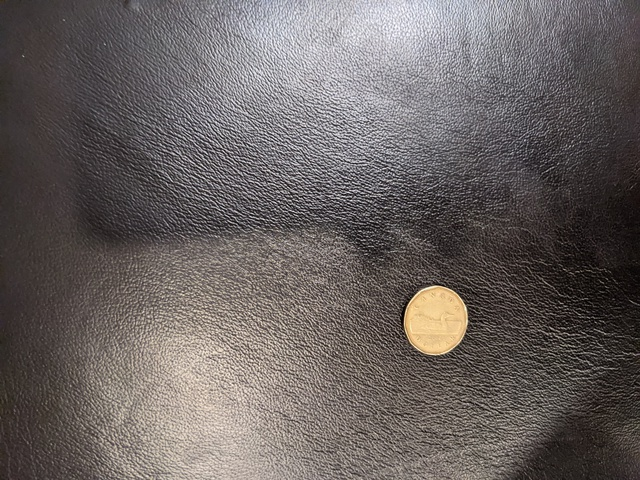loonie: (392, 276, 472, 368)
